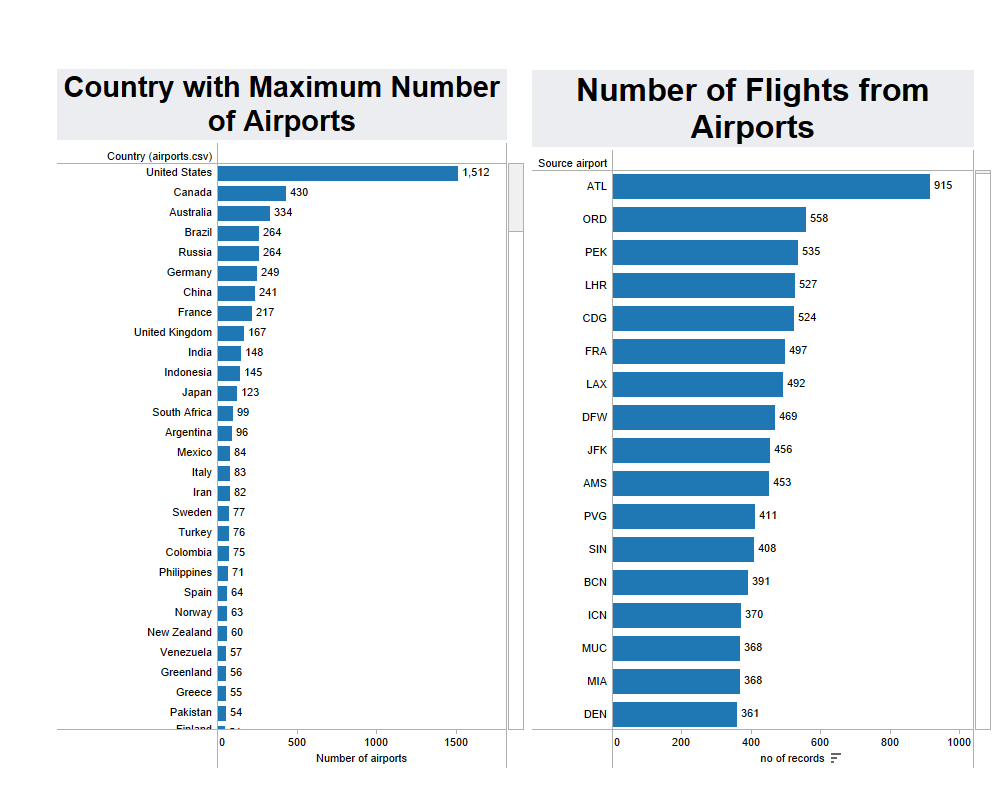

The dashboard page shown, as its layout file describes it:
{"tool":"tableau","page":{"name":"Dashboard 3","canvas":[1000,800],"ordinal":2},"visuals":[{"type":"worksheet","title":"country with maximum n.o of airports","mark":"Automatic","rows":["Country (airports.csv)"],"cols":["Calculation_182114315070271492"],"box":[53,65,475,708]},{"type":"worksheet","title":"n.o of flights from airports","mark":"Automatic","rows":["Source airport"],"cols":["Calculation_536209838655528962"],"box":[528,66,467,707]}]}

Visuals, with their boxes in screenshot pixels (x1, y1, x2, y2), scaled from the page's 1000x800 canvas onto the 1000x800 screenshot:
"country with maximum n.o of airports" worksheet: 53, 65, 528, 773
"n.o of flights from airports" worksheet: 528, 66, 995, 773
